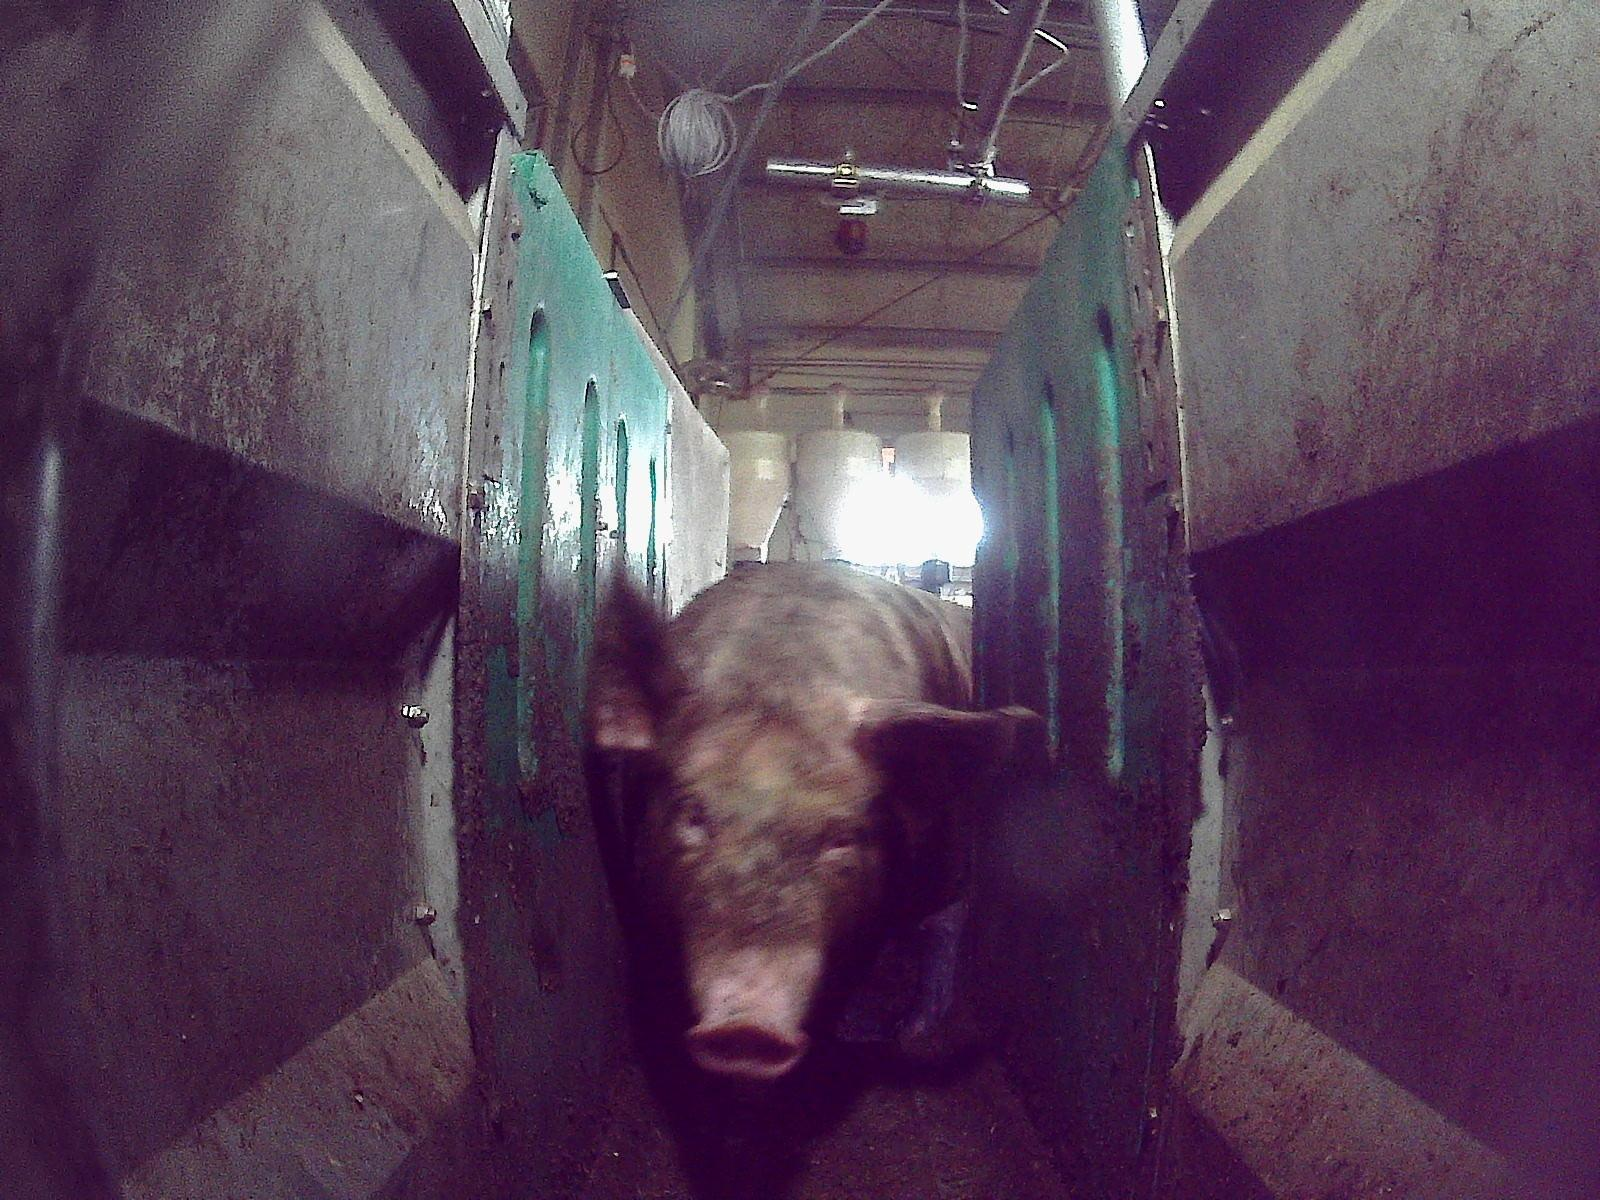Face: (627, 699, 884, 1077)
